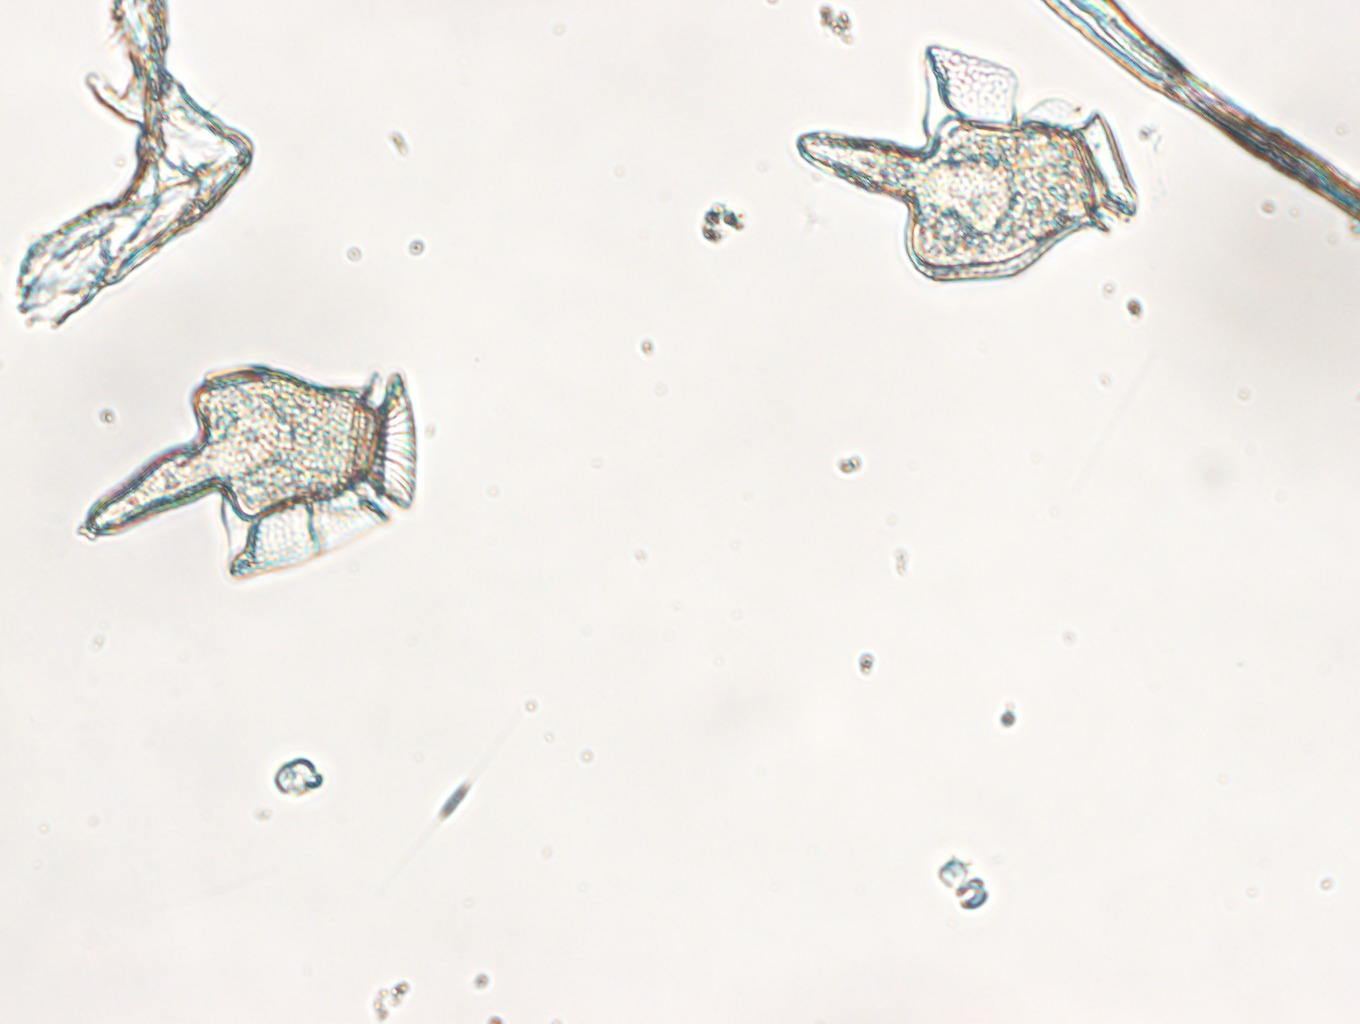dinophysis caudata: (796, 42, 1142, 279), (75, 361, 415, 586)
